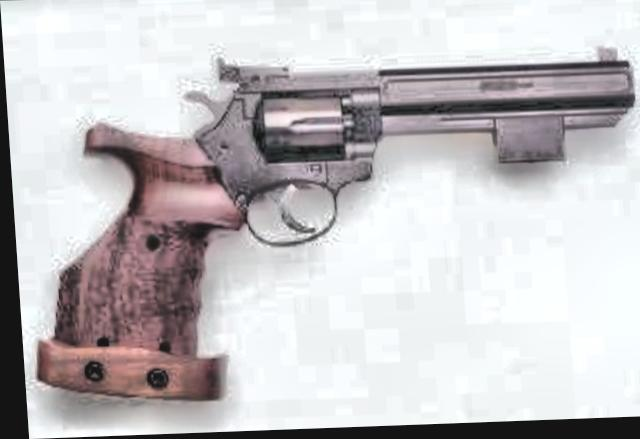pistol: (8, 41, 640, 398)
